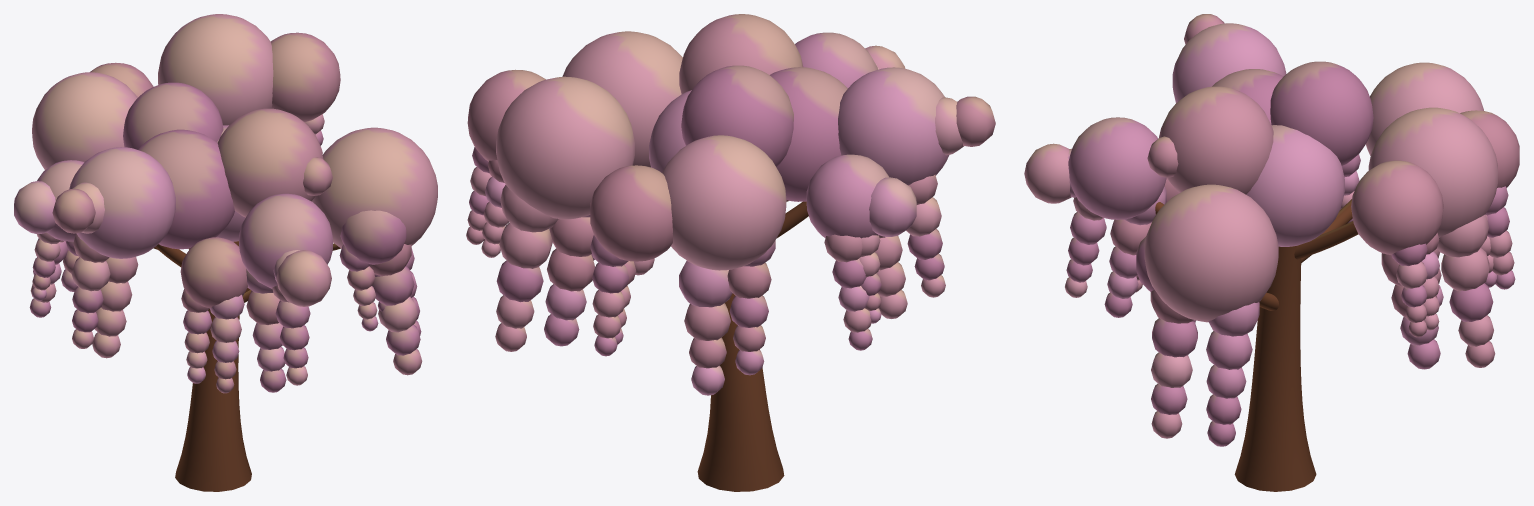
File: weeping-tree-1.obj
3 views of the same model, side by side, from view 1: azimuth 30°, elevation 25°; view 2: azimuth 150°, elevation 25°; view 3: azimuth 270°, elevation 25° (orthographic). The views are drawn at different scales.
Visible parts, largest first — view 1: tree; view 2: tree; view 3: tree.
Boxes of the visible parts, box(x1,y1,x2,y2) form: tree: box(14, 14, 437, 491); tree: box(466, 14, 995, 491); tree: box(1024, 14, 1519, 491).
Bounding box in the file's own units: 390 × 380 × 423.
